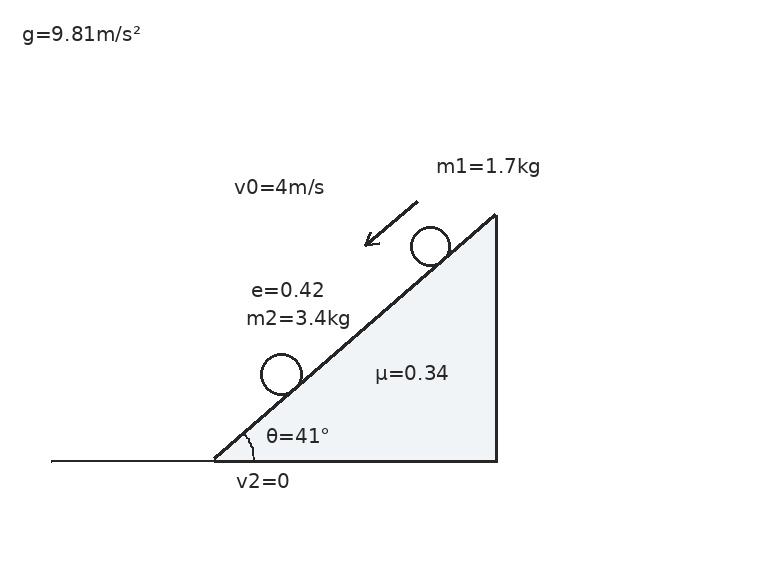ball: (258, 351, 304, 397), (408, 224, 452, 268)
ramp: (212, 213, 498, 462)
